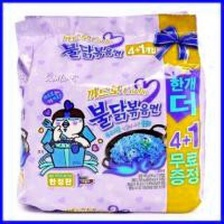snack: (6, 5, 212, 219)
